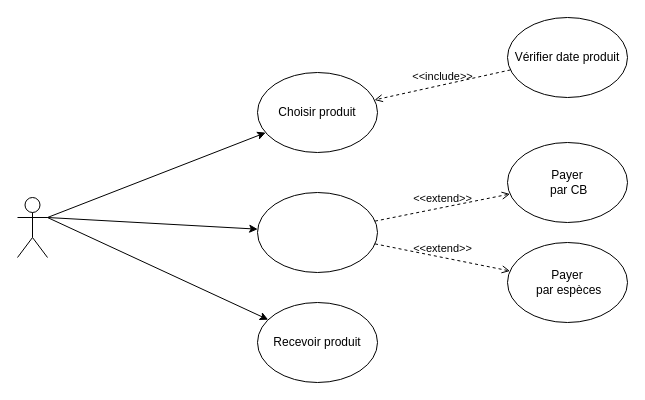
The diagram is 645 pixels wide and 400 high, and some of its shapes have lost their labels. The centre of each missing label's shape, as x and y in pixels:
Client: pixel 32 227
Payer: pixel 317 232
